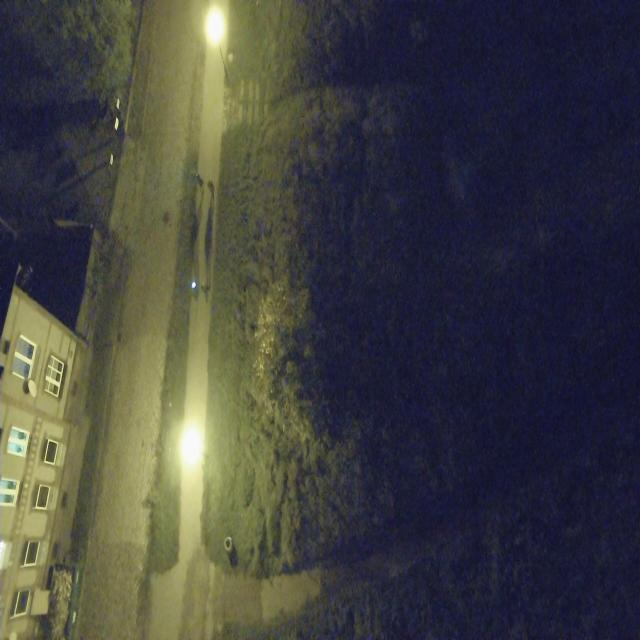p3rson: (208, 180, 215, 198), (196, 173, 203, 188), (192, 286, 199, 301), (201, 284, 210, 295), (210, 327, 211, 328)
